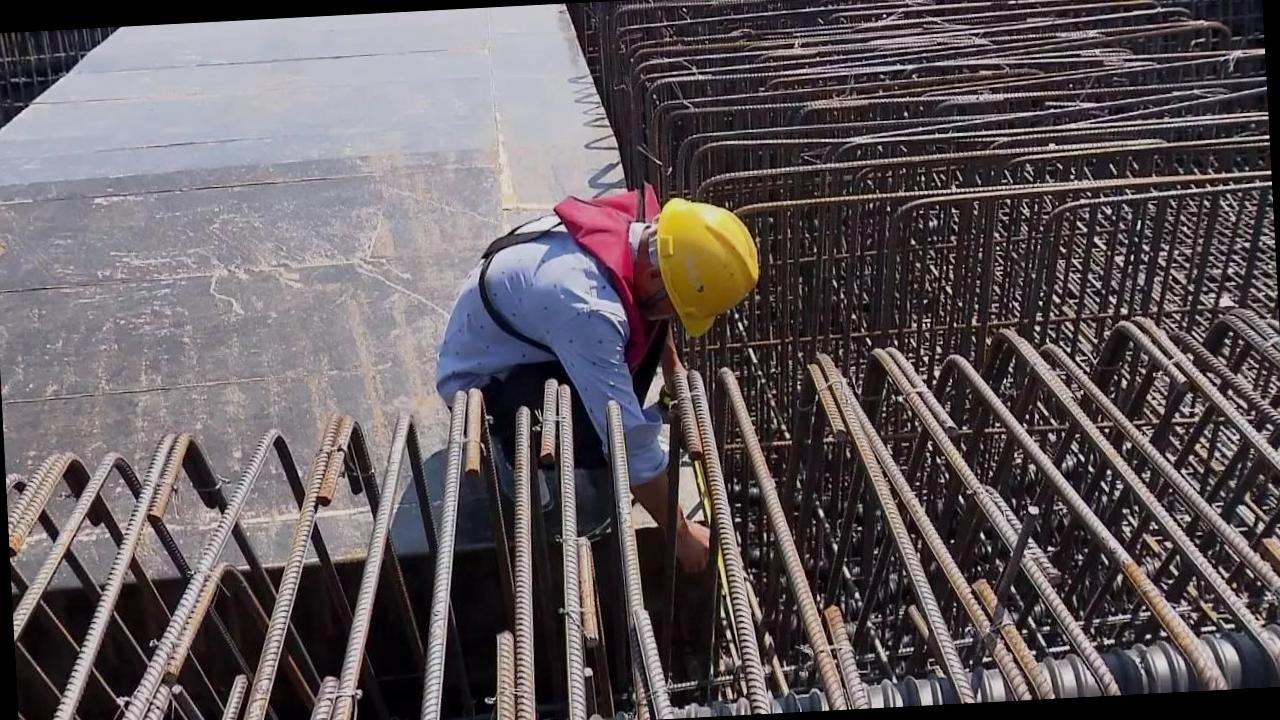helmet: (644, 185, 757, 345)
